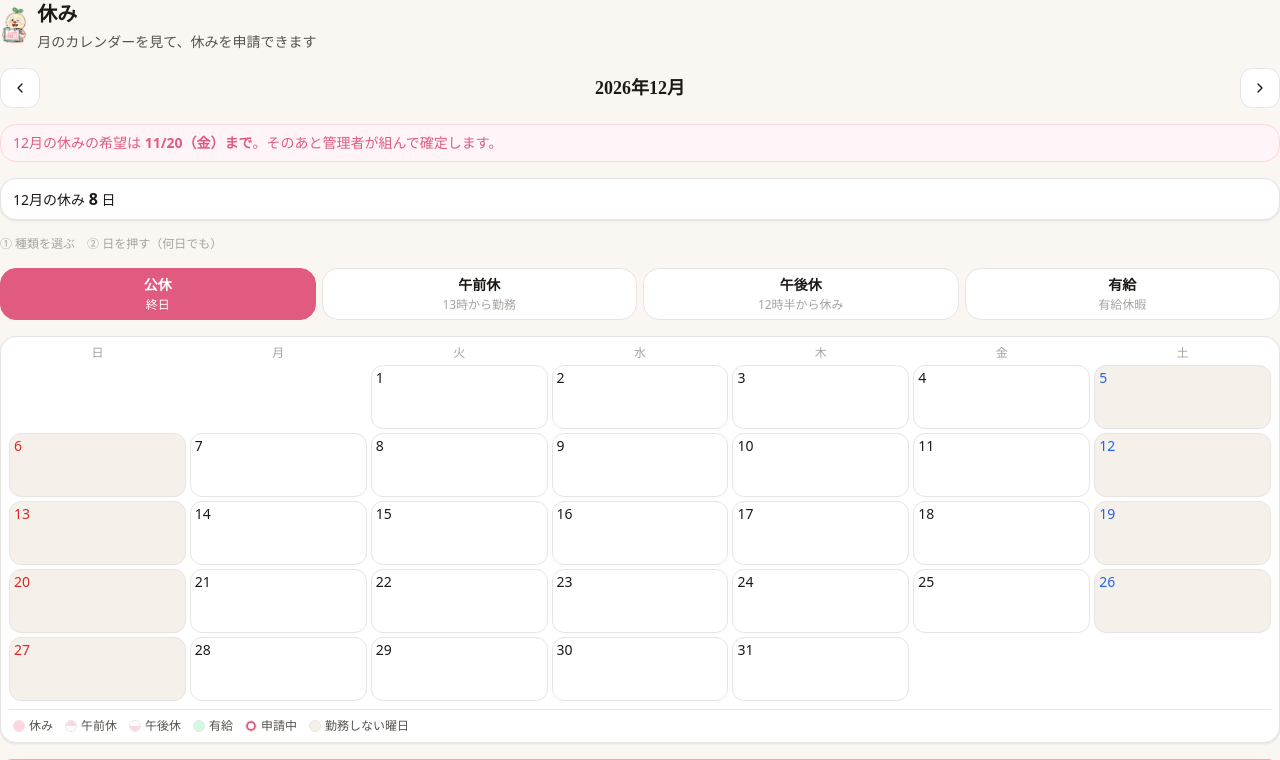
Test: MobileLeavePage — 申請 › 一部が失敗したら、失敗した日だけ選んだまま残し 422 の文言を見せる
What coordinates should you click on to do the following:
click the button "3"
I would click on:
 (821, 397)
Its box is [732,365,909,429].
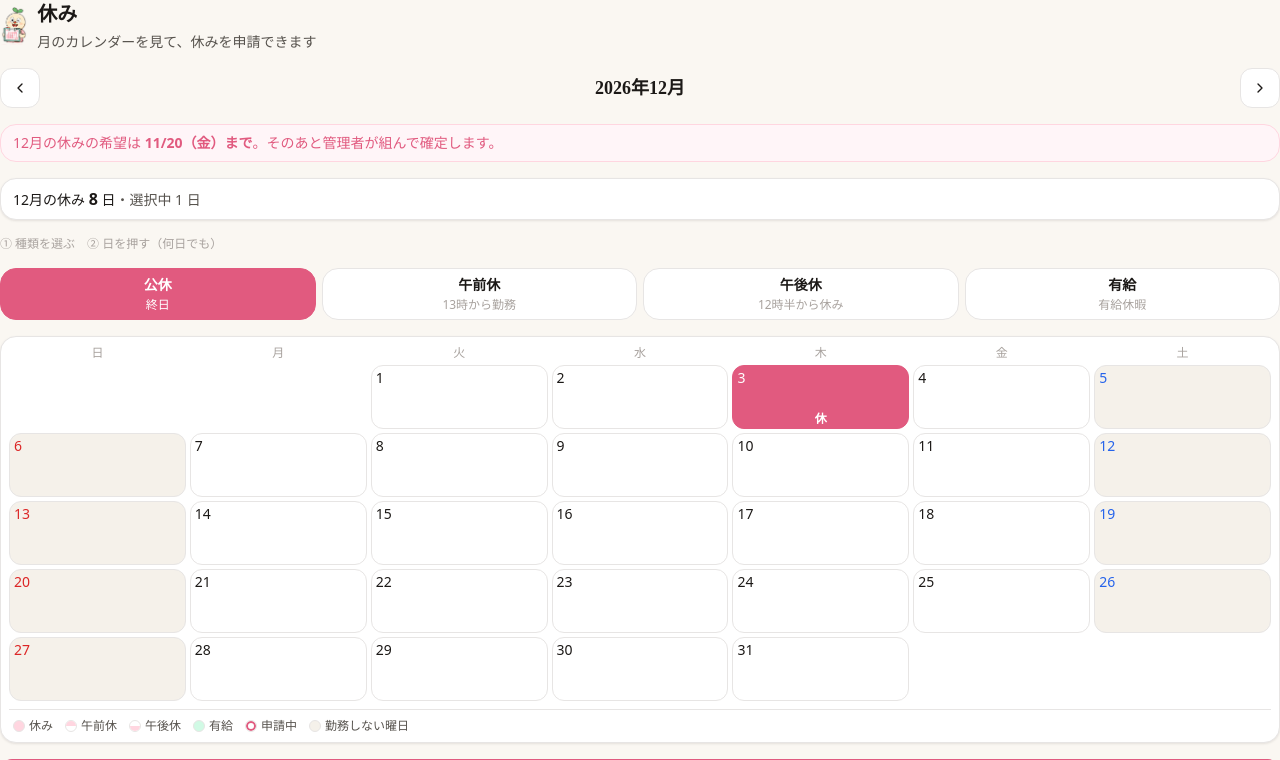
What coordinates should you click on to do the following:
click the button "4"
I would click on:
 (1002, 397)
Its box is [913,365,1090,429].
(page scrolled)
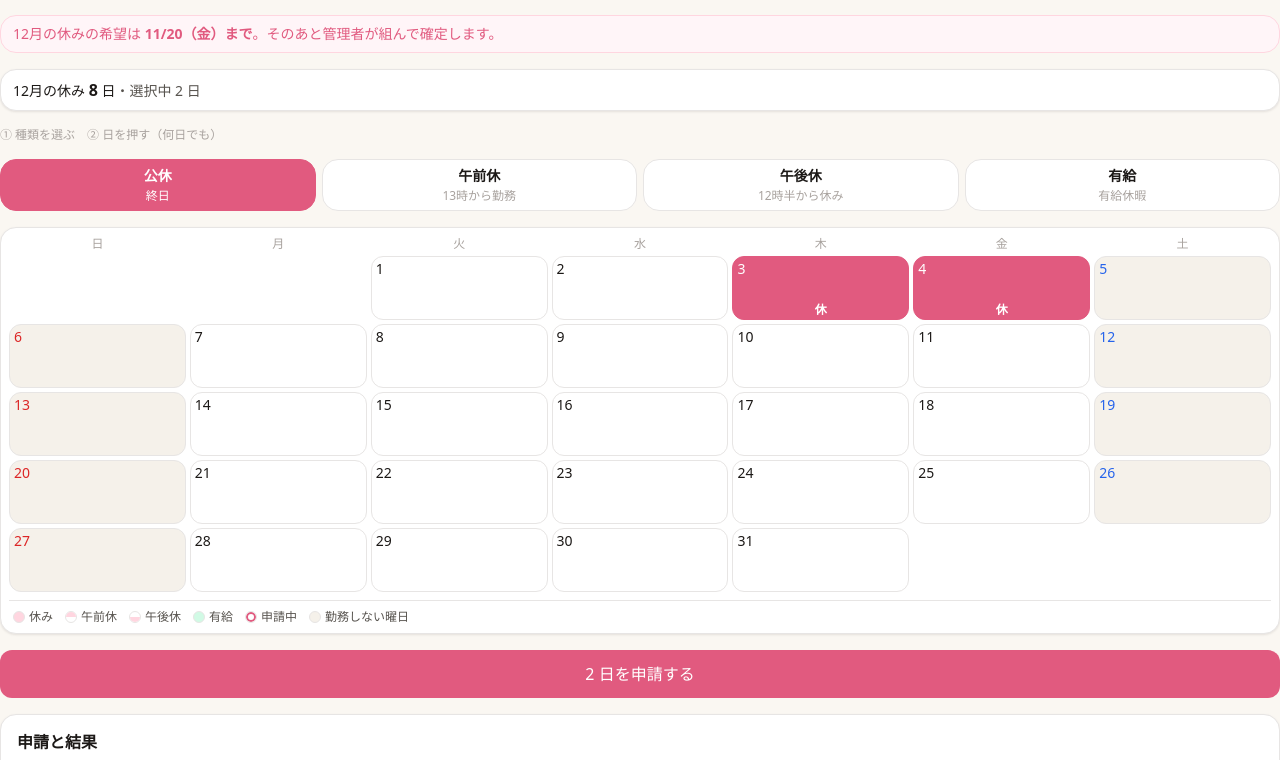
What coordinates should you click on to do the following:
click the button "2 日を申請する"
I would click on:
 (640, 674)
Its box is [0,650,1279,698].
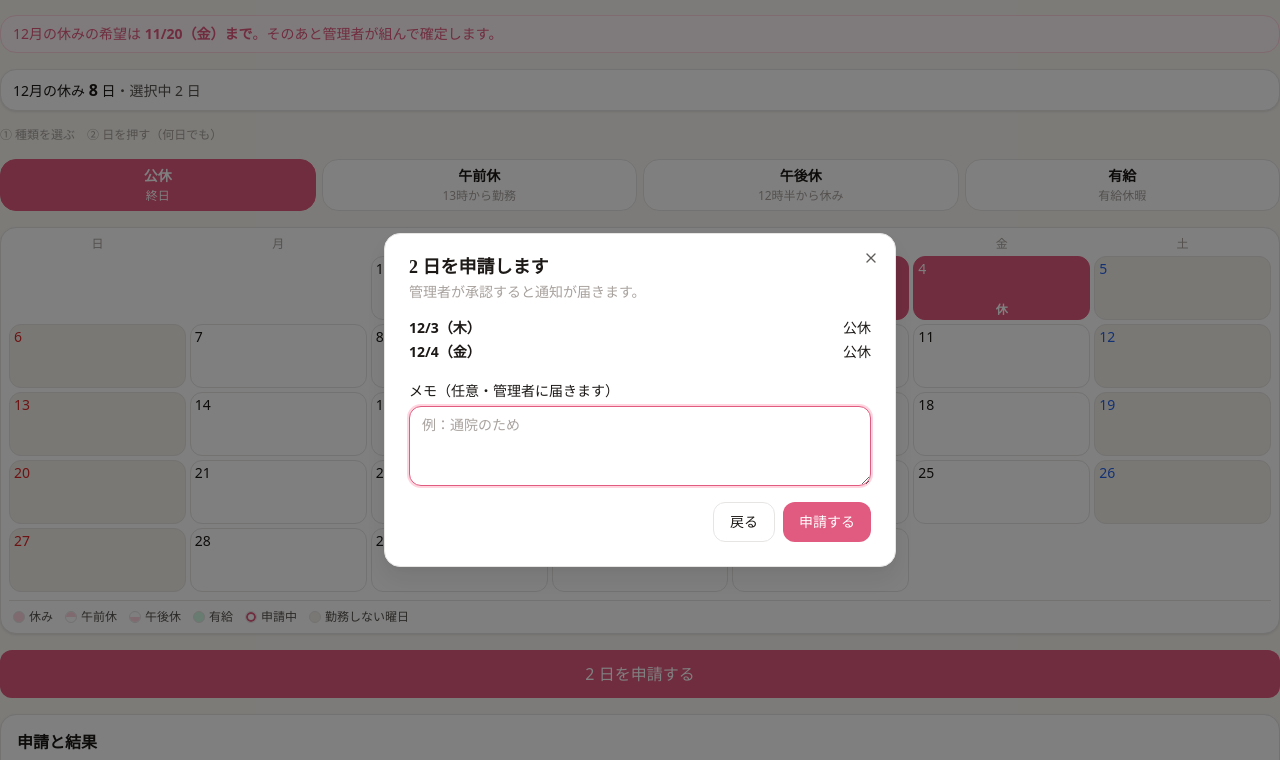
What coordinates should you click on to do the following:
click the button "申請する"
I would click on:
 (827, 522)
Its box is [783,502,871,542].
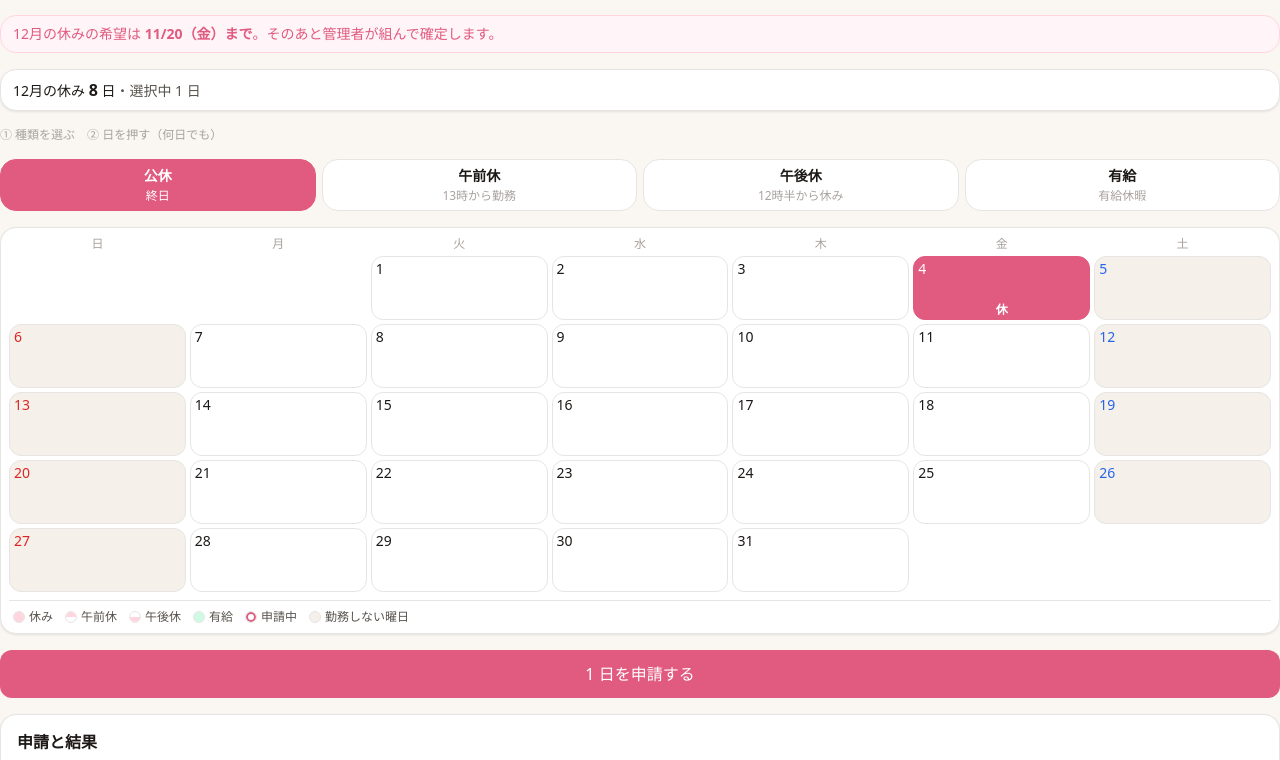
Expected: the button "1 日を申請する" is shown, [0,650,1279,698]
